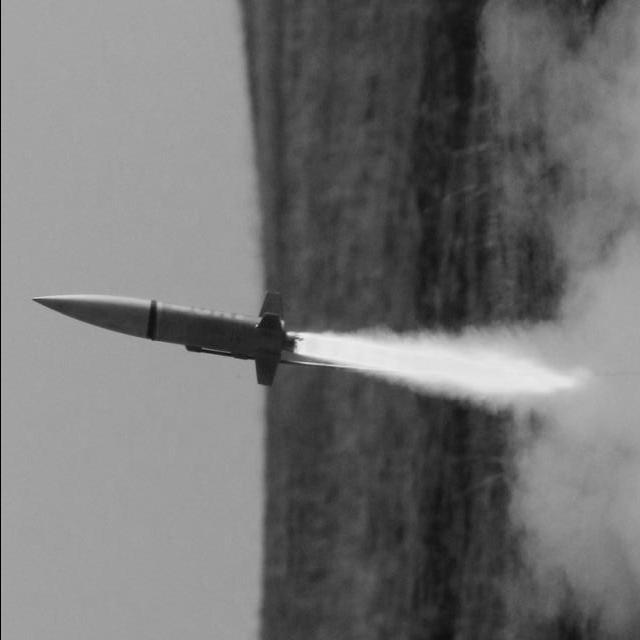missile: (27, 287, 295, 385)
